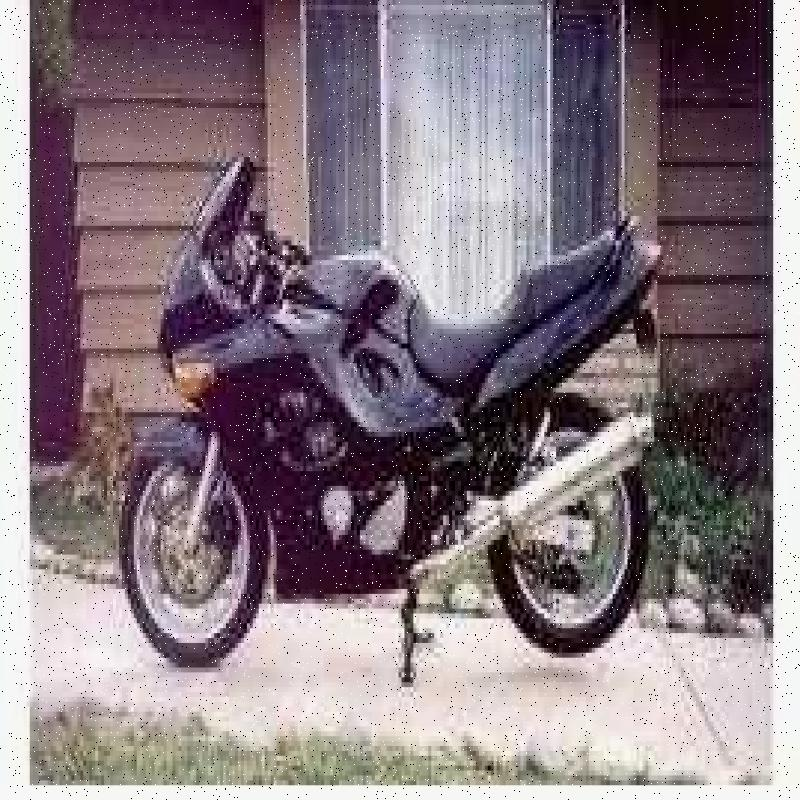bike: (94, 113, 684, 689)
